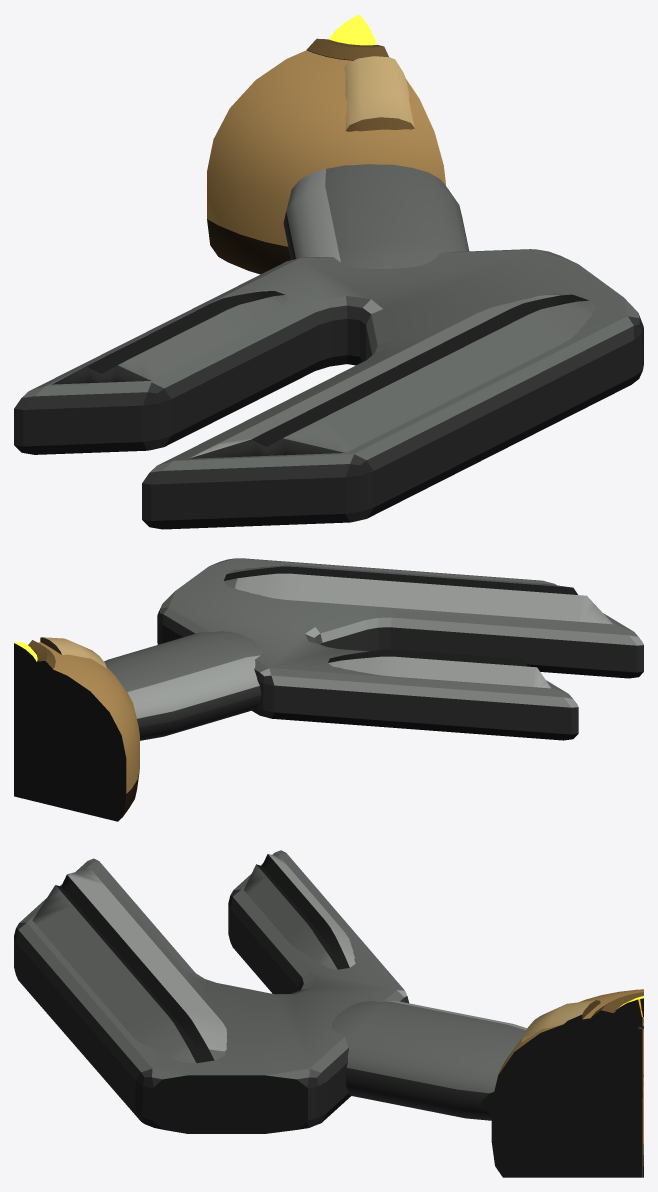
The model's file is spin_claw_51.glb.
3 views of the same model, one above another, from view 1: azimuth 30°, elevation 25°; view 2: azimuth 150°, elevation 25°; view 3: azimuth 270°, elevation 25° (orthographic). The views are drawn at different scales.
Visible parts, largest first — view 1: spin_claw_51_arm2_plate, spin_claw_51_hub_dome, spin_claw_51_arm2_ridge0, spin_claw_51_arm2_rod, spin_claw_51_arm2_ridge1, spin_claw_51_hub_rib2, spin_claw_51_hub_bezel, spin_claw_51_hub_lens; view 2: spin_claw_51_arm2_plate, spin_claw_51_hub_dome, spin_claw_51_arm2_ridge0, spin_claw_51_arm2_rod, spin_claw_51_arm2_ridge1, spin_claw_51_hub_rib2, spin_claw_51_hub_bezel, spin_claw_51_hub_lens; view 3: spin_claw_51_arm2_plate, spin_claw_51_hub_dome, spin_claw_51_arm2_rod, spin_claw_51_arm2_ridge0, spin_claw_51_arm2_ridge1, spin_claw_51_hub_rib2, spin_claw_51_hub_bezel, spin_claw_51_hub_lens.
Boxes of the visible parts, <box> form: spin_claw_51_arm2_plate: <box>14,249,643,529</box>; spin_claw_51_hub_dome: <box>207,50,445,274</box>; spin_claw_51_arm2_ridge0: <box>189,293,596,458</box>; spin_claw_51_arm2_rod: <box>283,164,468,268</box>; spin_claw_51_arm2_ridge1: <box>52,290,287,384</box>; spin_claw_51_hub_rib2: <box>344,56,414,131</box>; spin_claw_51_hub_bezel: <box>306,38,388,60</box>; spin_claw_51_hub_lens: <box>329,14,376,45</box>; spin_claw_51_arm2_plate: <box>157,558,643,740</box>; spin_claw_51_hub_dome: <box>14,642,139,821</box>; spin_claw_51_arm2_ridge0: <box>223,565,612,624</box>; spin_claw_51_arm2_rod: <box>104,631,262,740</box>; spin_claw_51_arm2_ridge1: <box>328,649,550,688</box>; spin_claw_51_hub_rib2: <box>40,637,106,668</box>; spin_claw_51_hub_bezel: <box>14,640,55,678</box>; spin_claw_51_hub_lens: <box>14,642,38,677</box>; spin_claw_51_arm2_plate: <box>14,850,408,1133</box>; spin_claw_51_hub_dome: <box>491,989,643,1177</box>; spin_claw_51_arm2_rod: <box>332,1000,546,1125</box>; spin_claw_51_arm2_ridge0: <box>32,868,227,1063</box>; spin_claw_51_arm2_ridge1: <box>244,854,355,969</box>; spin_claw_51_hub_rib2: <box>522,1000,600,1041</box>; spin_claw_51_hub_bezel: <box>591,992,643,1029</box>; spin_claw_51_hub_lens: <box>613,996,643,1030</box>.
Bounding box in the file's own units: 17.16 × 6.14 × 19.53.
